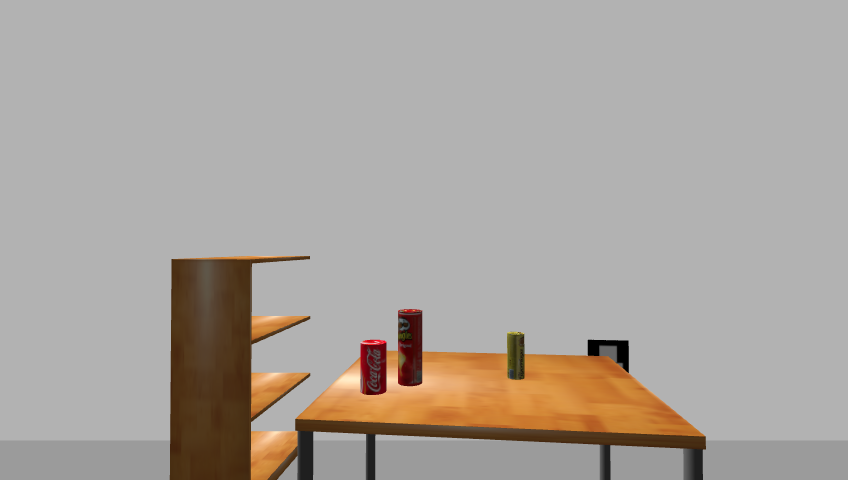aruco marker: (583, 338, 633, 378)
biscuits pack: (506, 332, 525, 381)
bookshelf: (166, 254, 318, 480)
coke can: (360, 339, 388, 396)
dinner table: (288, 350, 713, 480)
pringles can: (396, 309, 424, 387)
